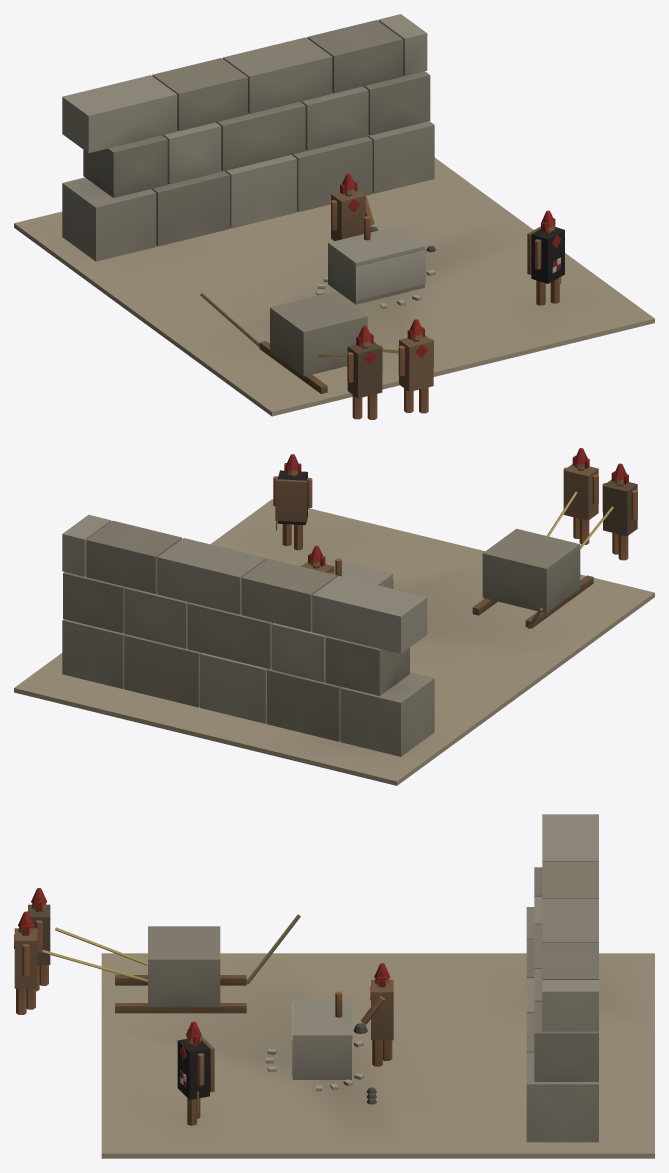
Rendered from forge.glb.
3 renders of one model, top to bottom at view 1: azimuth 30°, elevation 25°; view 2: azimuth 150°, elevation 25°; view 3: azimuth 270°, elevation 25°, orthographic. The views are drawn at different scales.
Parts seen in each view (by area): view 1: base; view 2: base; view 3: base.
Part boxes in pixels (box(x1,y1,x2,y2)): base: box(14, 14, 654, 419); base: box(14, 448, 654, 785); base: box(14, 814, 654, 1158).
Size of the model in its own units: 7.2 by 2.6 by 9.73.
